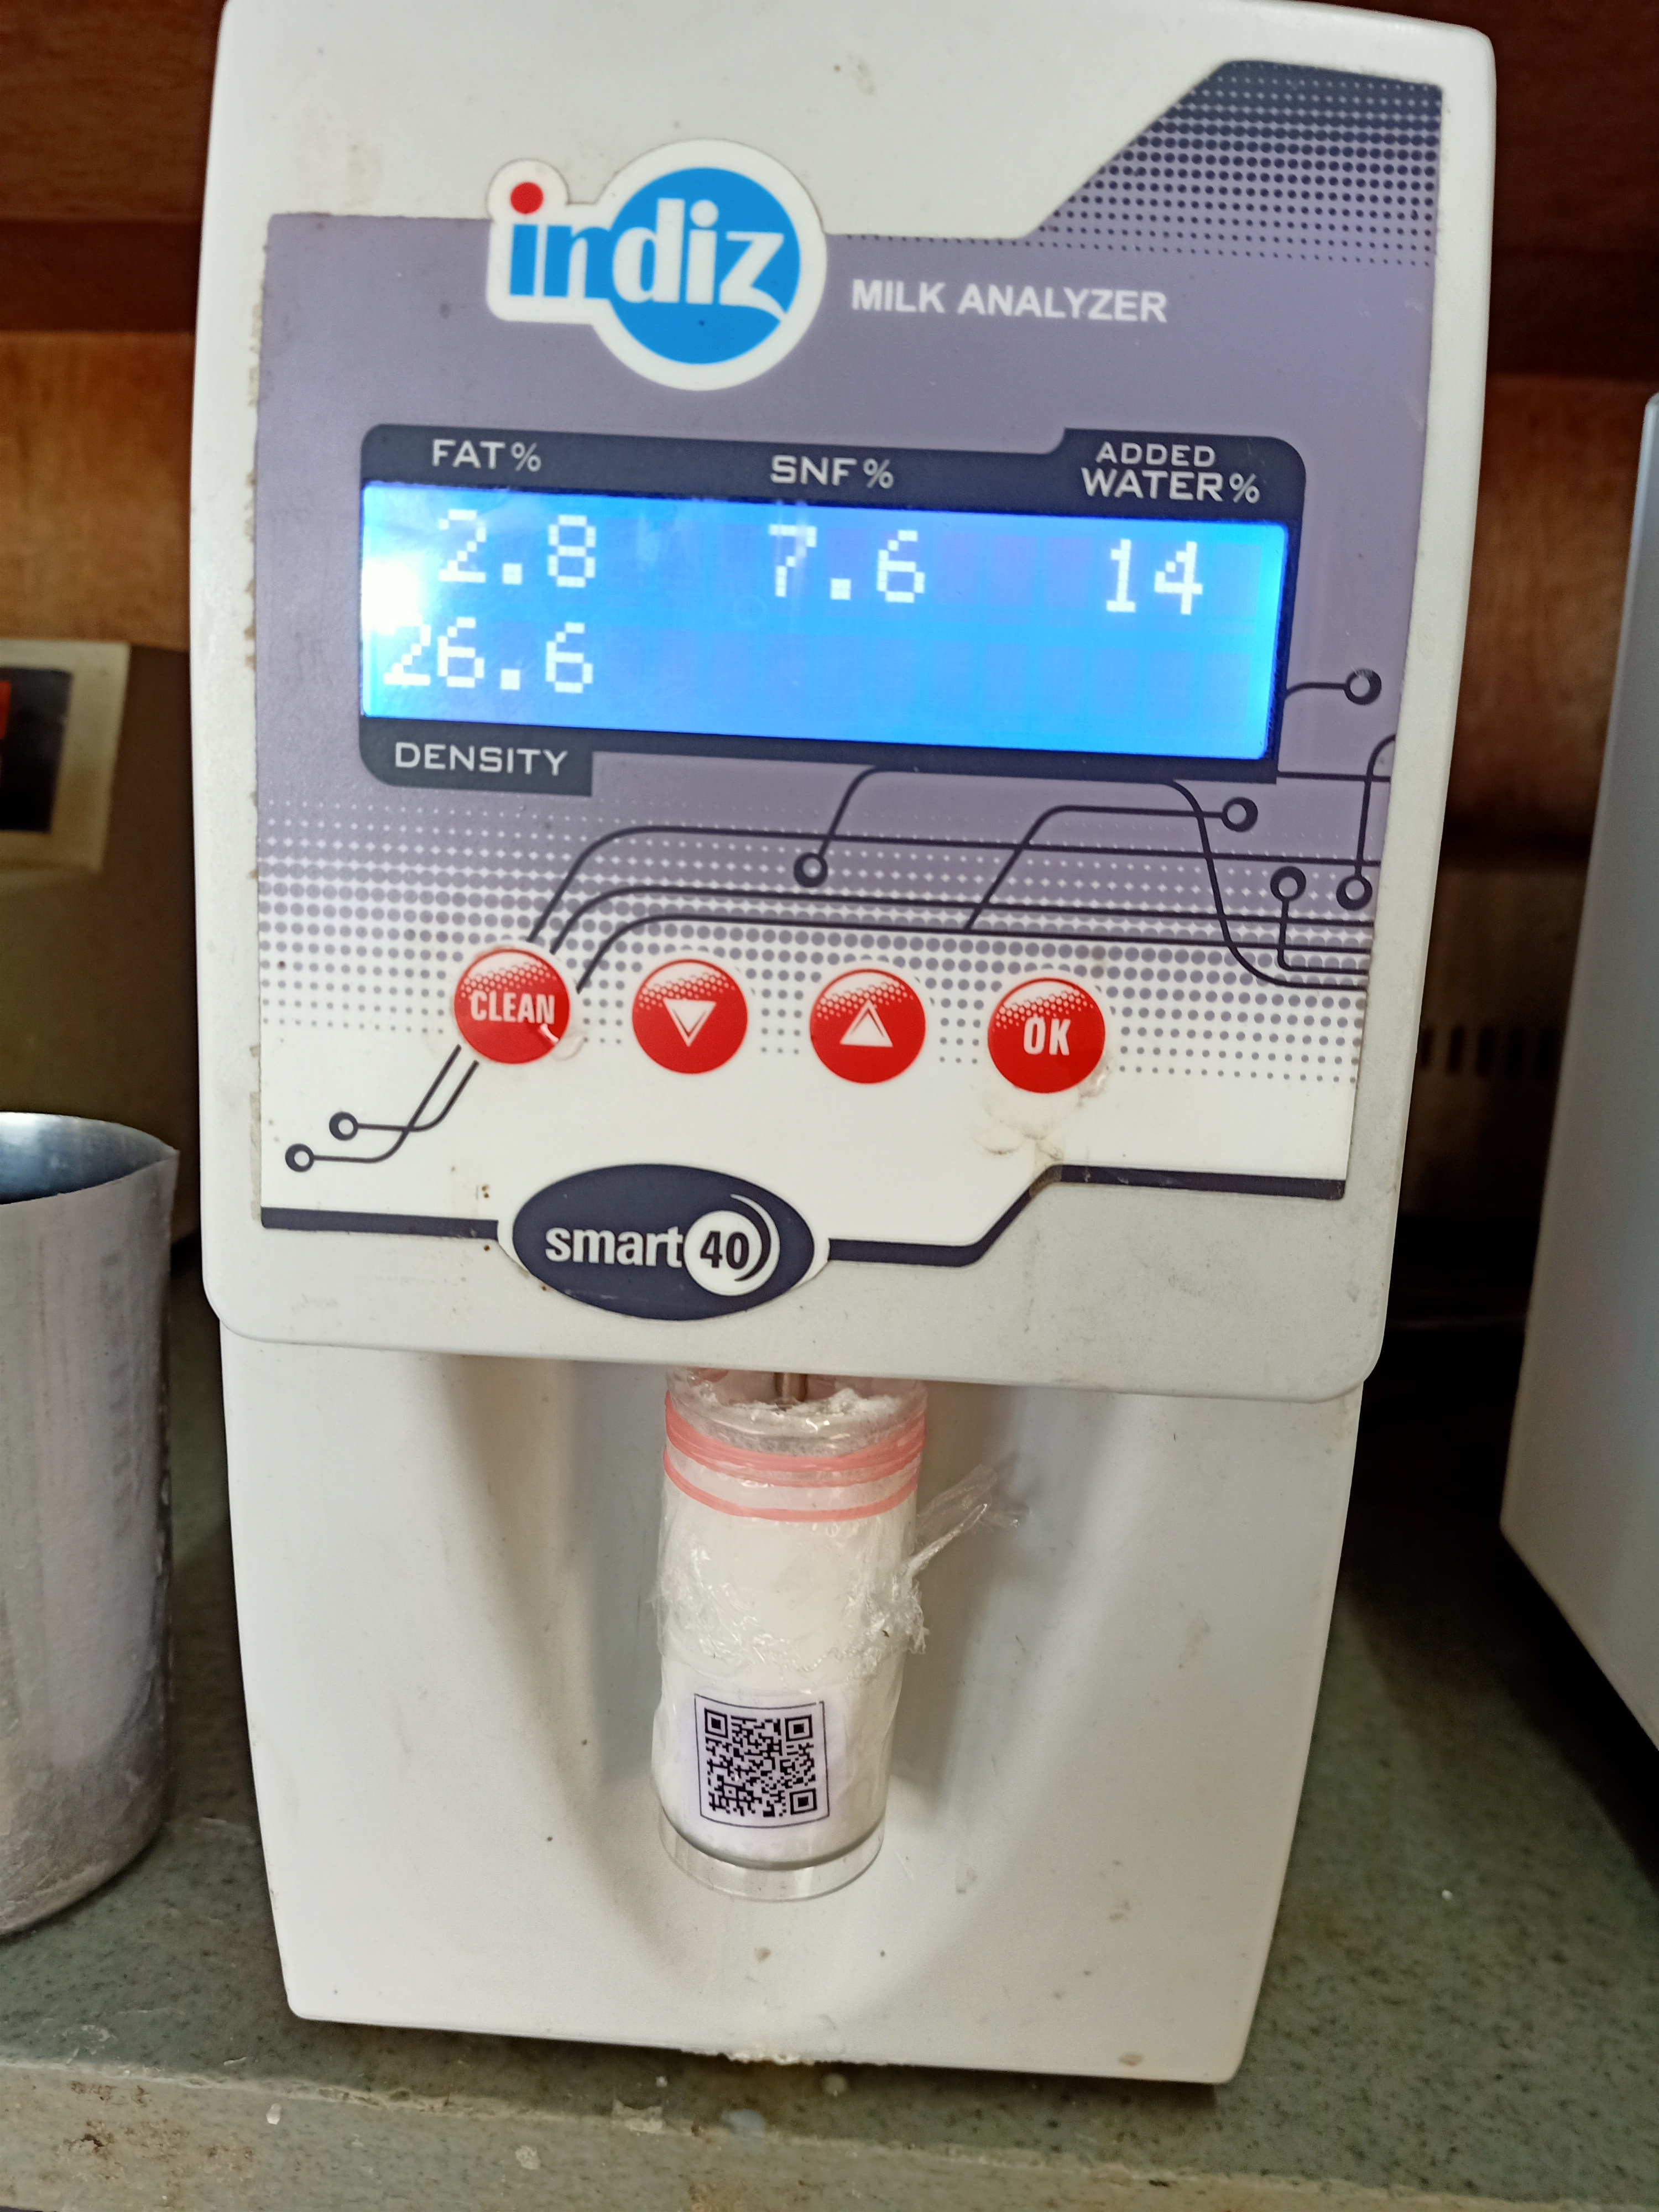lcd: (336, 463, 1284, 761)
